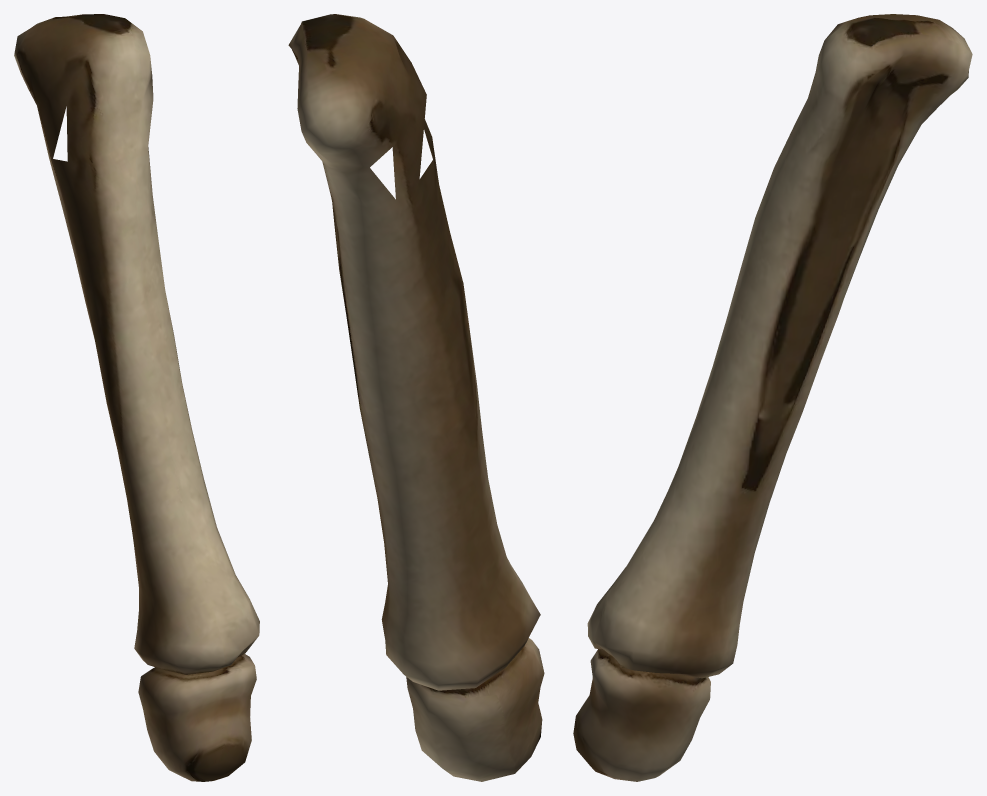
File: Metatarsal_IV.glb
The picture shows the model from 3 angles, left to right: view 1: azimuth 30°, elevation 25°; view 2: azimuth 150°, elevation 25°; view 3: azimuth 270°, elevation 25°; orthographic projection. The views are drawn at different scales.
Parts seen in each view (by area): view 1: Metatarsal_IV_Left1:Group10970; view 2: Metatarsal_IV_Left1:Group10970; view 3: Metatarsal_IV_Left1:Group10970.
Boxes of the visible parts, x1=… form: Metatarsal_IV_Left1:Group10970: x1=14, y1=14, x2=259, y2=781; Metatarsal_IV_Left1:Group10970: x1=288, y1=14, x2=544, y2=781; Metatarsal_IV_Left1:Group10970: x1=573, y1=14, x2=972, y2=781.
Bounding box in the file's own units: 10.21 × 59.93 × 28.66.
Materials: 1 (1 with a texture image).
